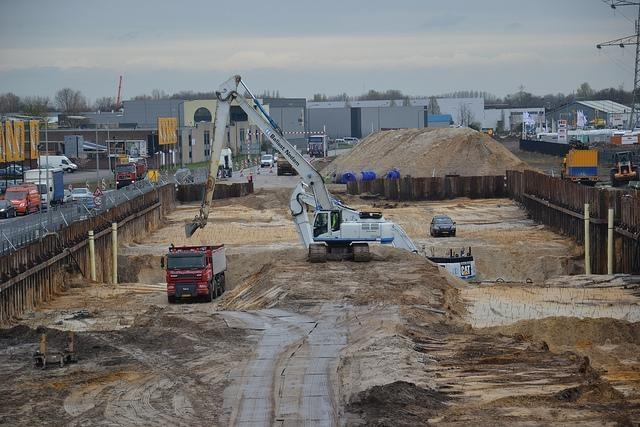car: (4, 182, 40, 216), (429, 214, 456, 238), (0, 199, 17, 220), (70, 188, 92, 200), (60, 190, 74, 204), (261, 155, 274, 168), (274, 152, 278, 162)
truck: (185, 74, 398, 263), (158, 242, 227, 304), (24, 168, 64, 210), (558, 150, 600, 187), (114, 163, 144, 190), (216, 147, 233, 181), (308, 135, 329, 157)
